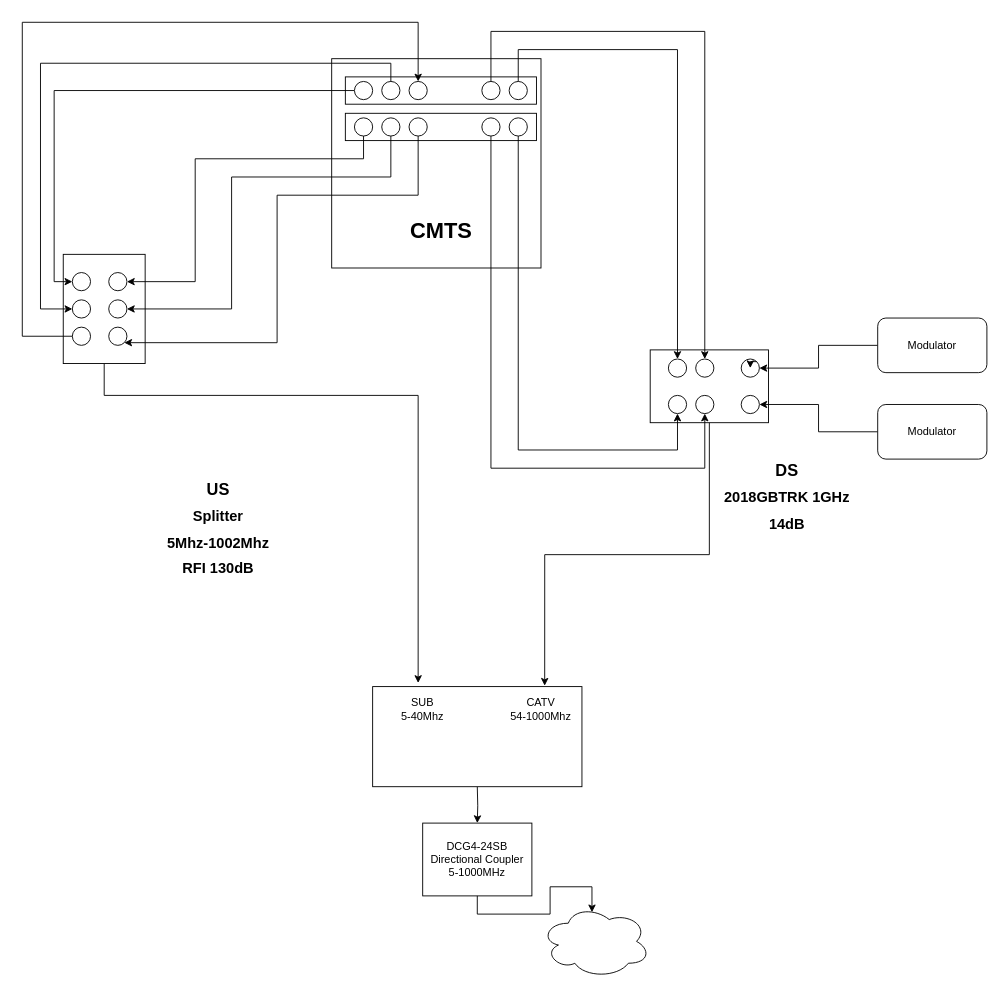
This 1003x994 diagram has some shape labels left out. The box of each missing label's shape, as (x1, y1, x2, y2) in pixels:
Cable Plant: (540, 904, 650, 978)
Sub Band Duplexer: (372, 686, 582, 787)
